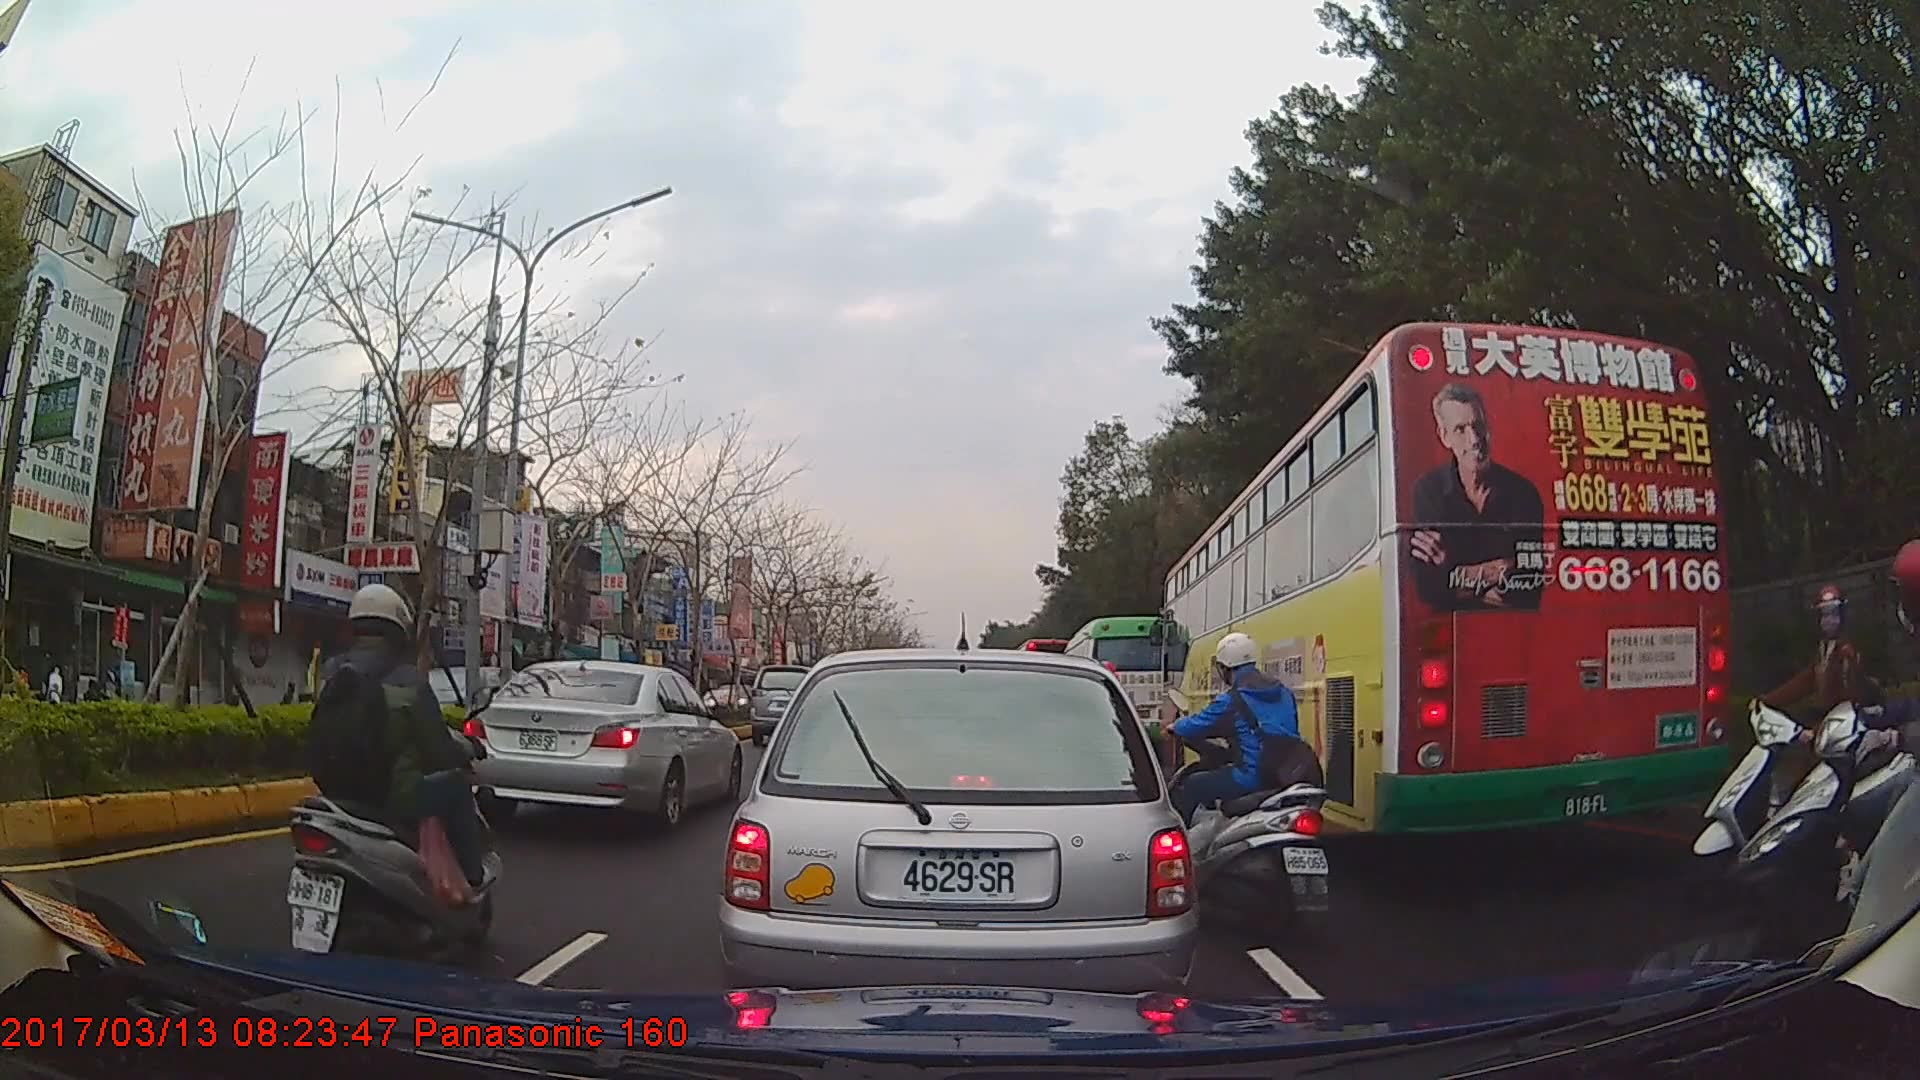rider: (1702, 542, 1920, 996), (293, 584, 499, 972), (1694, 575, 1904, 897), (1156, 634, 1330, 935)
vehicle: (1160, 319, 1727, 852), (716, 647, 1196, 1031), (464, 656, 741, 832), (1059, 616, 1188, 762), (745, 663, 820, 745)
